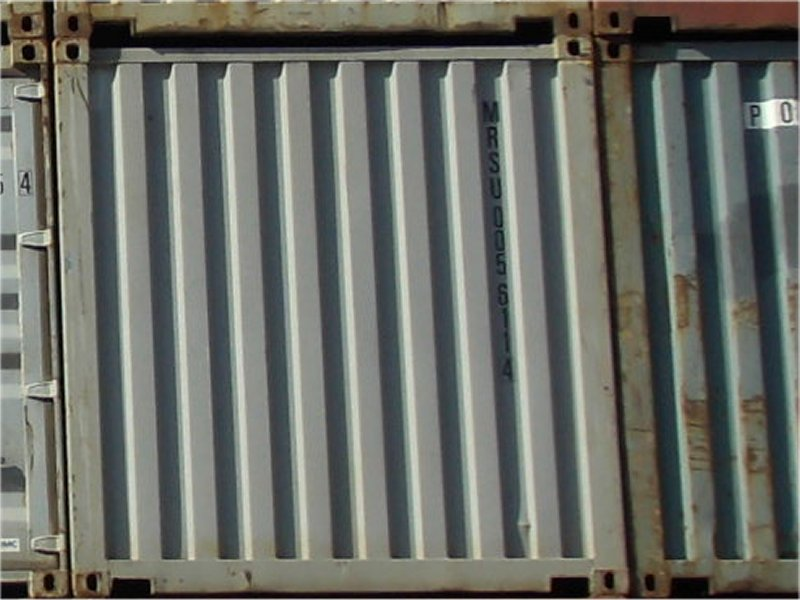container_no_door: (57, 38, 632, 596)
